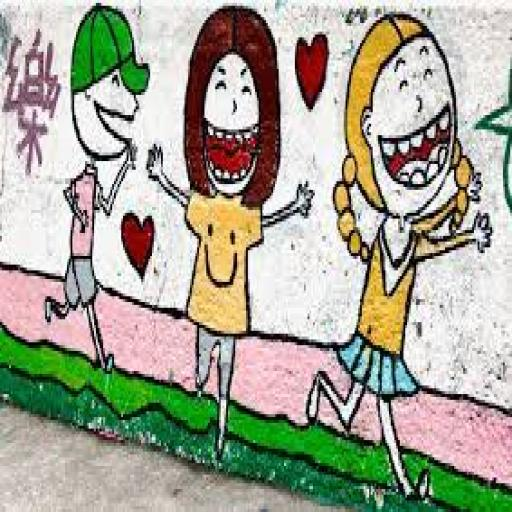person: (304, 0, 495, 504), (150, 1, 317, 457), (41, 0, 150, 377)
